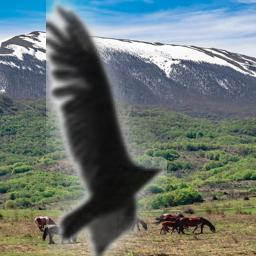Crow: (46, 0, 167, 256)
